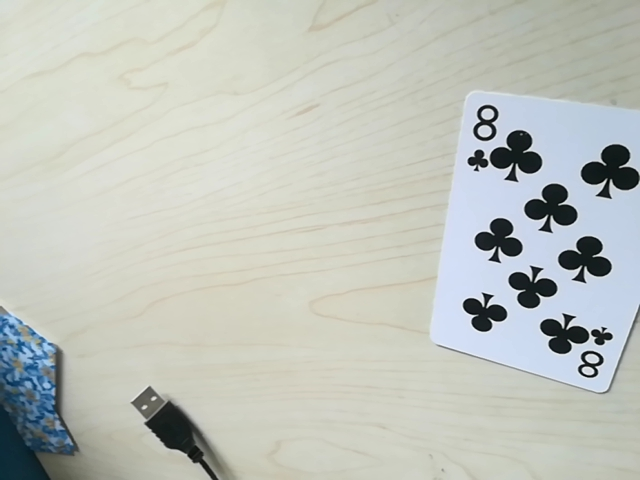mh 8: (461, 94, 510, 169), (563, 332, 616, 386)
